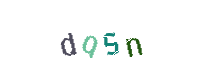5: (60, 0, 140, 80)
D: (53, 0, 133, 80)
N: (93, 0, 173, 80)
Q: (53, 0, 133, 80)
